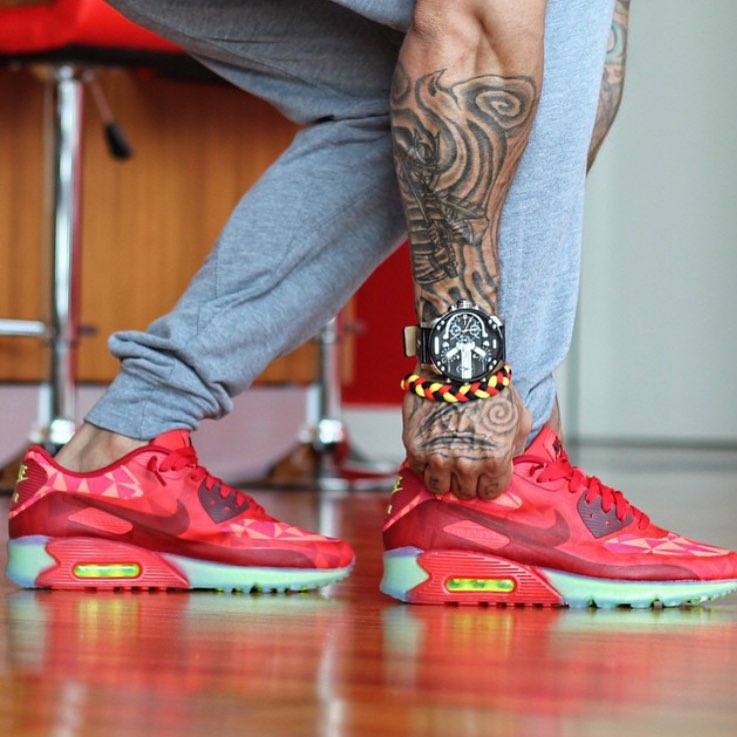sneaker: (1, 380, 373, 620), (359, 392, 737, 618)
